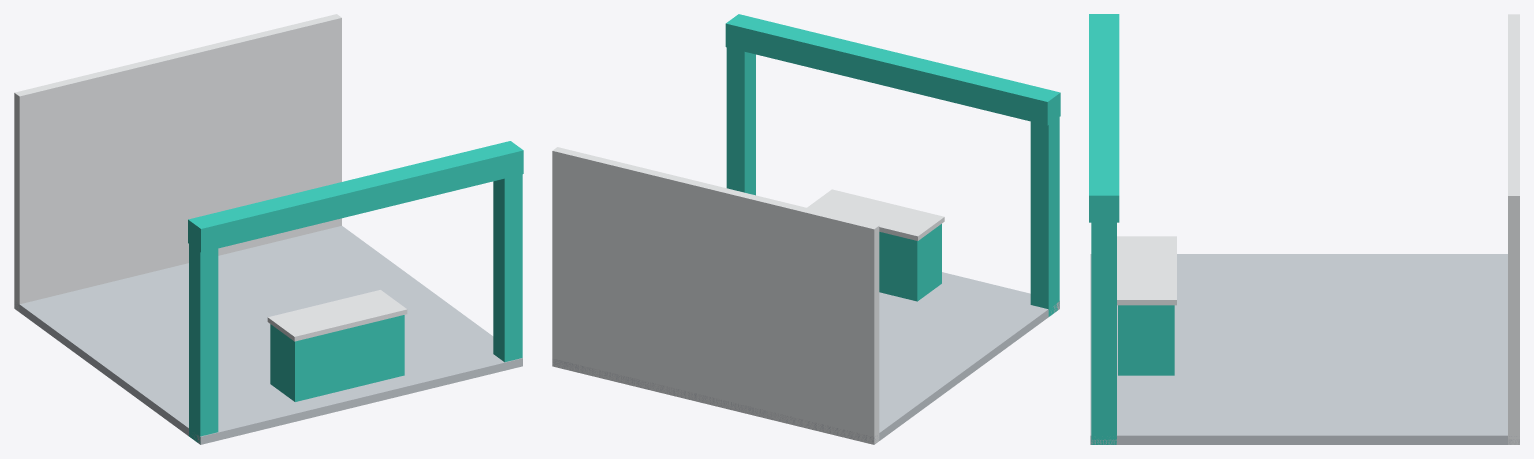
3 views of the same model, side by side, from view 1: azimuth 30°, elevation 25°; view 2: azimuth 150°, elevation 25°; view 3: azimuth 270°, elevation 25° (orthographic). The views are drawn at different scales.
Parts seen in each view (by area): view 1: Exhibition Booth Concept; view 2: Exhibition Booth Concept; view 3: Exhibition Booth Concept.
Part boxes in pixels (x1=…): Exhibition Booth Concept: x1=14, y1=14, x2=523, y2=444; Exhibition Booth Concept: x1=552, y1=14, x2=1060, y2=444; Exhibition Booth Concept: x1=1089, y1=14, x2=1519, y2=444.
Size of the model in its own units: 5 by 3.2 by 5.02.
